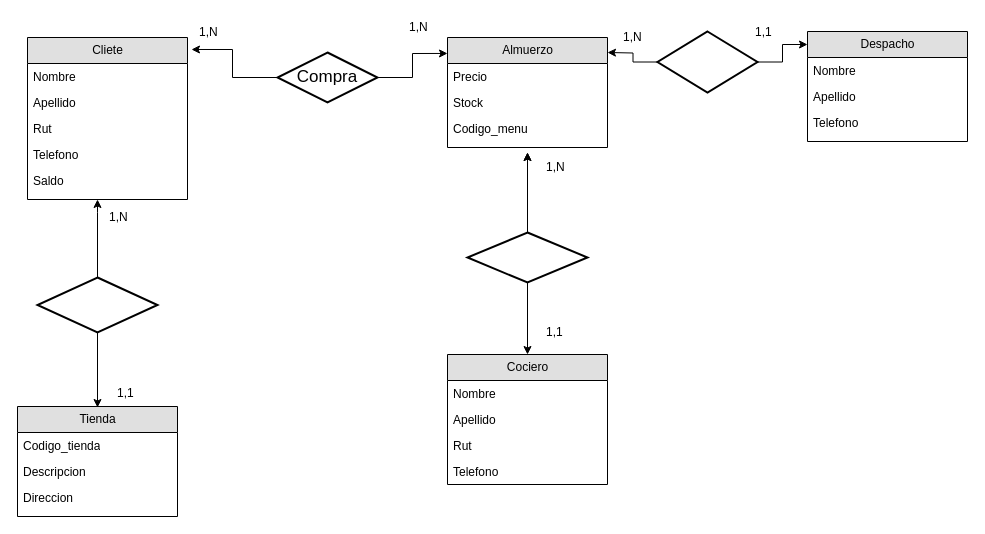
Some shapes in this 985 by 534 pixel diagram are drawn without their labels. Each missing label, with the centre of its shape:
Entrgado: point (707, 61)
Pertenece: point (97, 304)
Preparado: point (527, 257)
